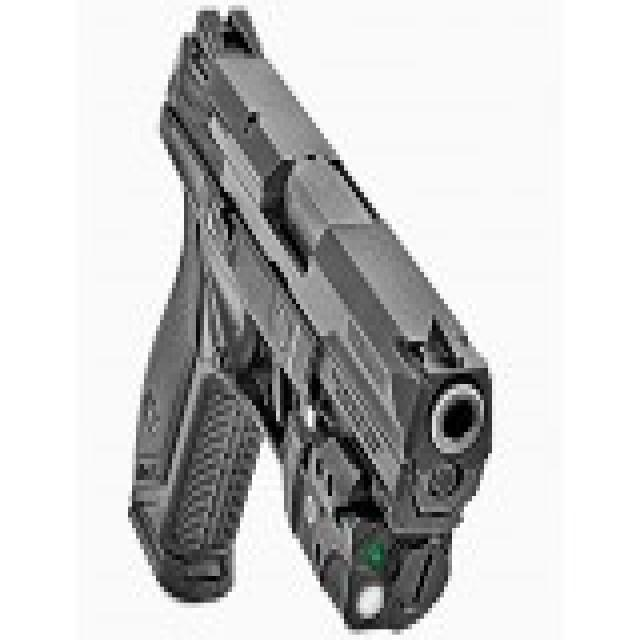Gun: (128, 11, 513, 603)
